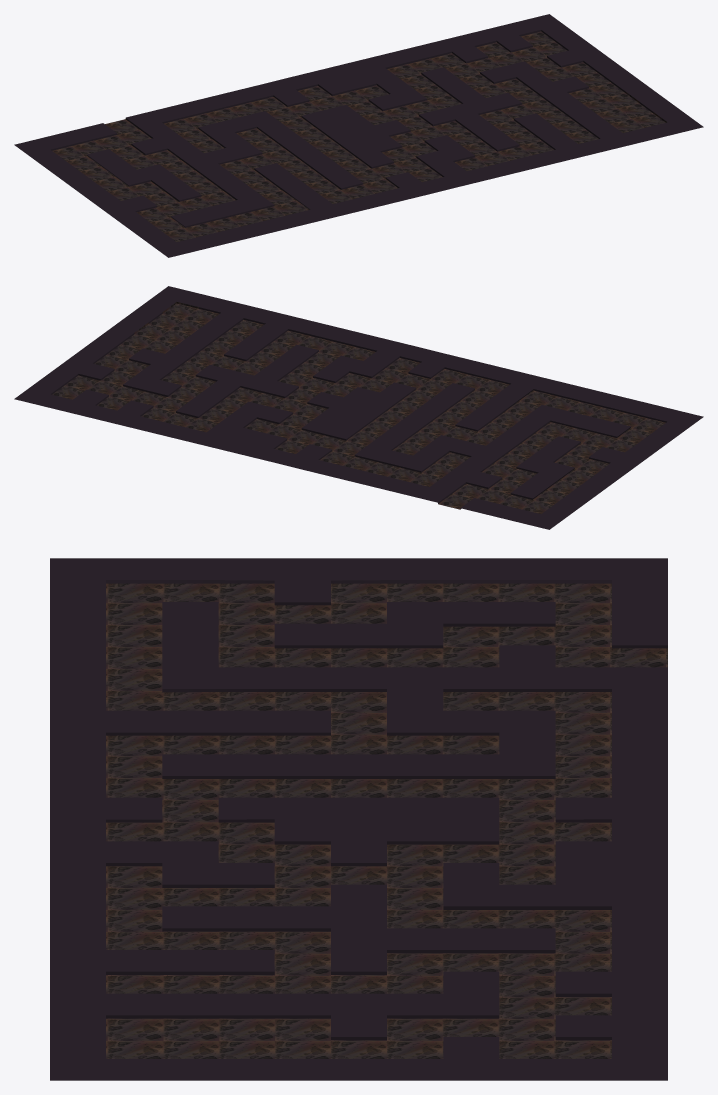
Rendered from LEVEL ONE TEMPLATE.fbx.
3 views of the same model, one above another, from view 1: azimuth 30°, elevation 25°; view 2: azimuth 150°, elevation 25°; view 3: azimuth 270°, elevation 25° (orthographic). The views are drawn at different scales.
Parts seen in each view (by area): view 1: pPlane3; view 2: pPlane3; view 3: pPlane3.
Boxes of the visible parts, x1,y1,x2,y2 form: pPlane3: [14, 14, 703, 257]; pPlane3: [14, 286, 703, 529]; pPlane3: [50, 558, 667, 1080].
Bounding box in the file's own units: 58.66 × 0.1803 × 29.32.
